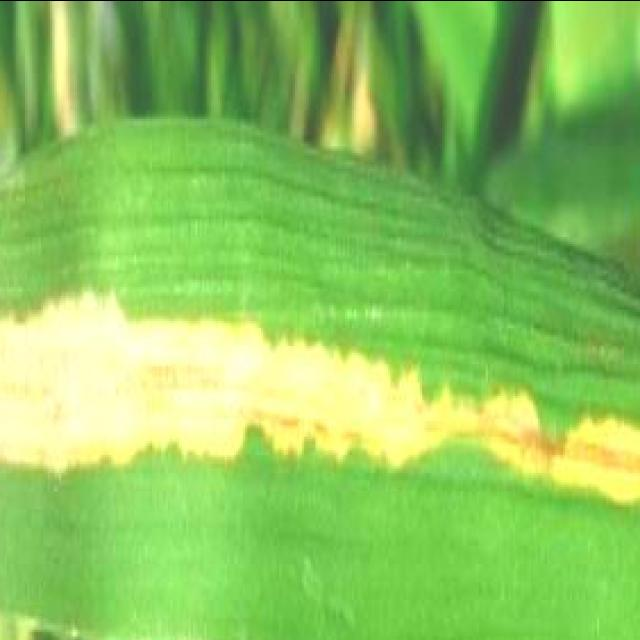Bacterial_Leaf_Blight: (0, 145, 640, 631)
